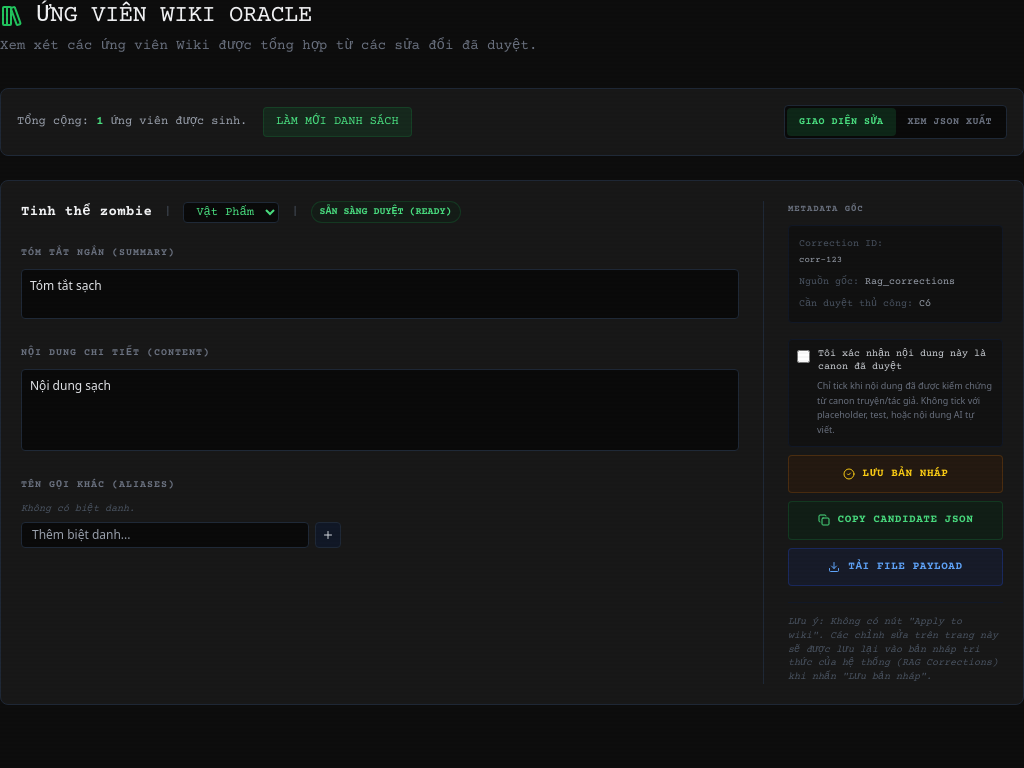
Test: AdminWikiCandidatesPage Dashboard › blocks saving and shows error message if ticked but content is unsafe
Check: the text "Tinh thể zombie" is shown, box [21,202,152,222]
Click the checkbox labelled "Tôi xác nhận nội dung này là canon đã duyệt". click: {"x": 804, "y": 356}
box: [797,350,810,363]
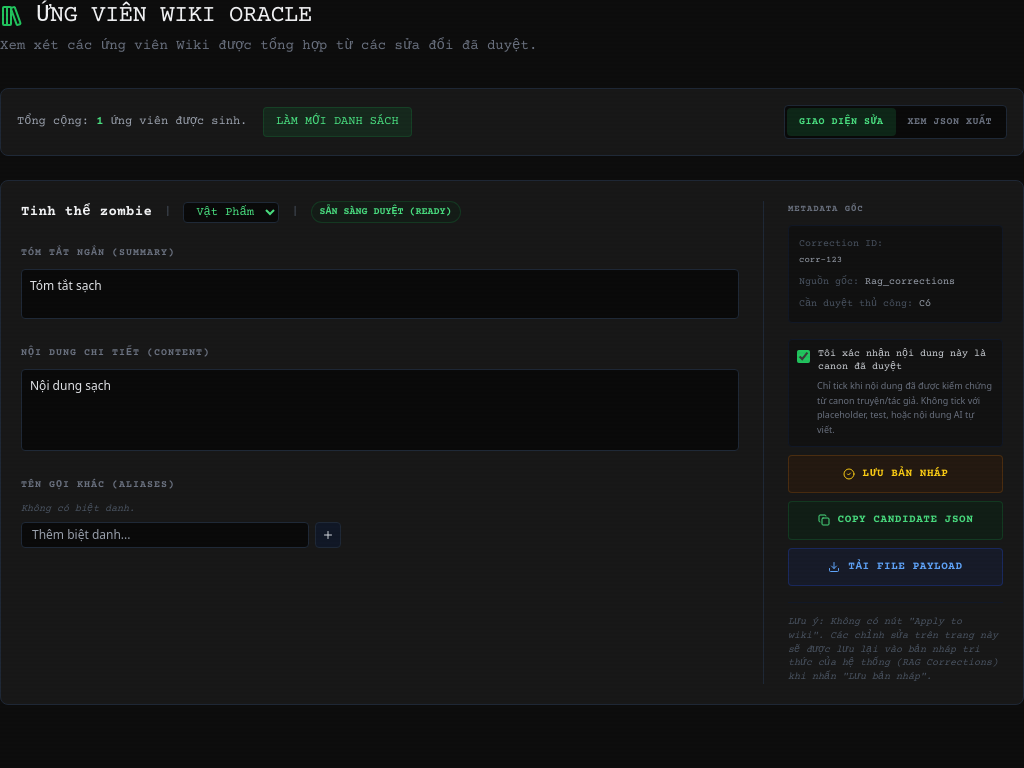
Edit content to make it unsafe
Replace the text in the text box with placeholder "Nhập chi tiết về thực thể, vai trò, thuộc tính..." below "Nội dung chi tiết (Content)" with "Nội dung này có chữ MOCK". click: {"x": 380, "y": 410}
box: [21,369,739,451]
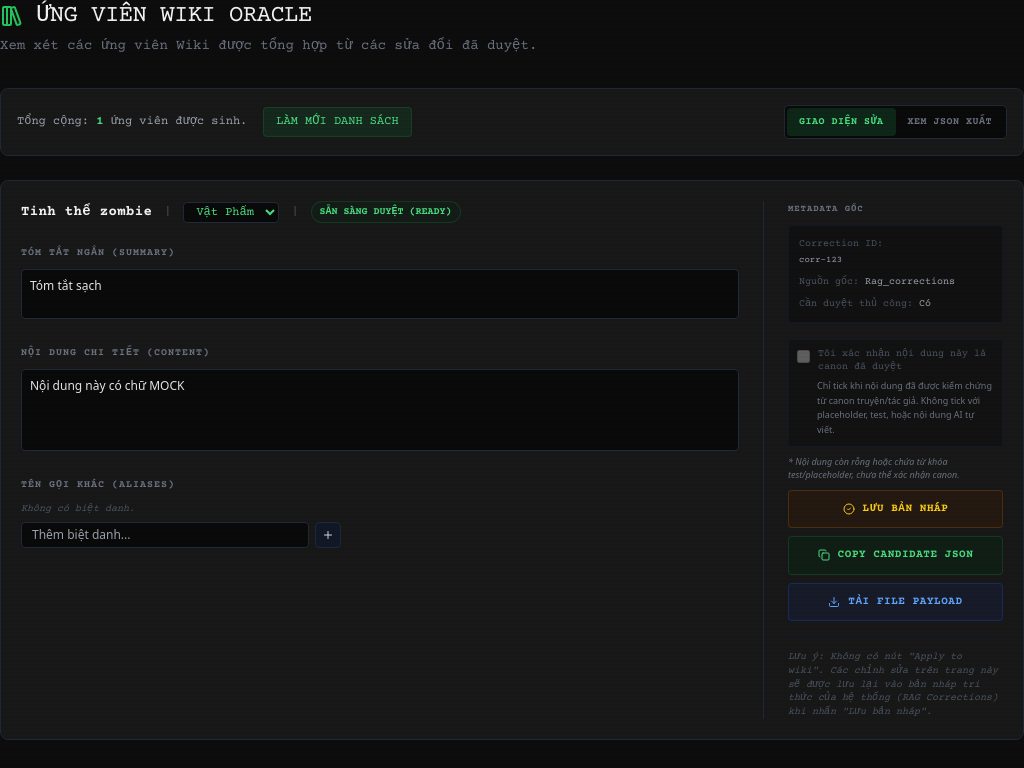
Click the button "LƯU BẢN NHÁP". click: {"x": 896, "y": 509}
box: [788,490,1003,528]
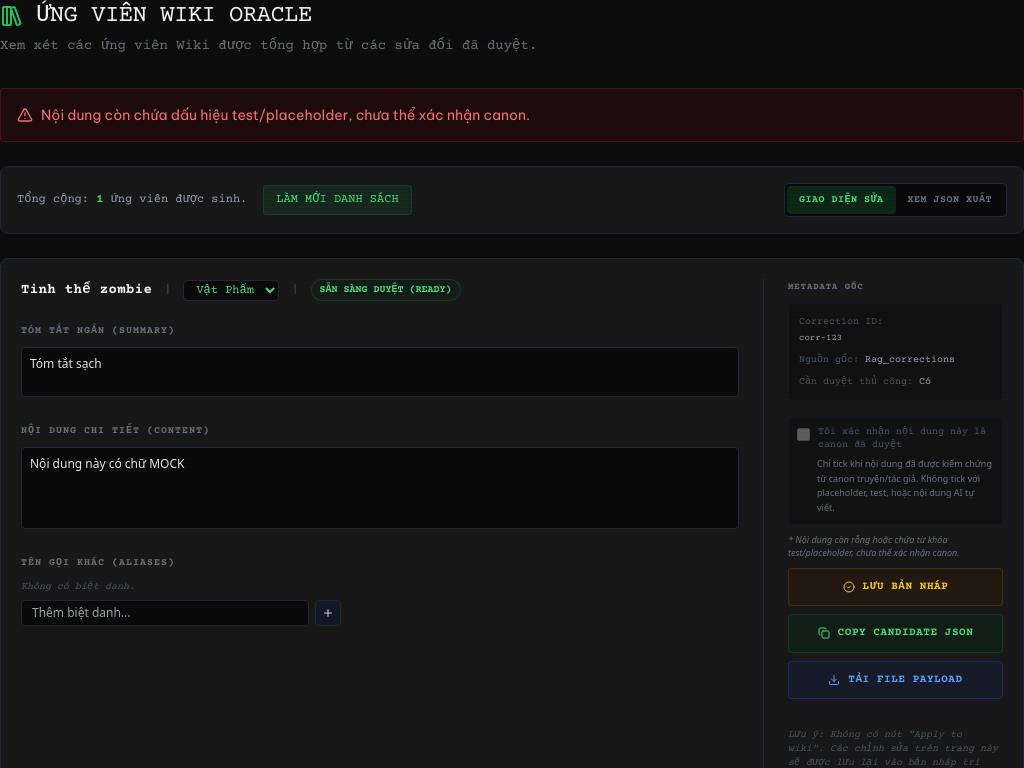
Check: the text "Nội dung còn chứa dấu hiệu test/placeholder, chưa thể xác nhận canon." is shown, box [41,105,530,125]
